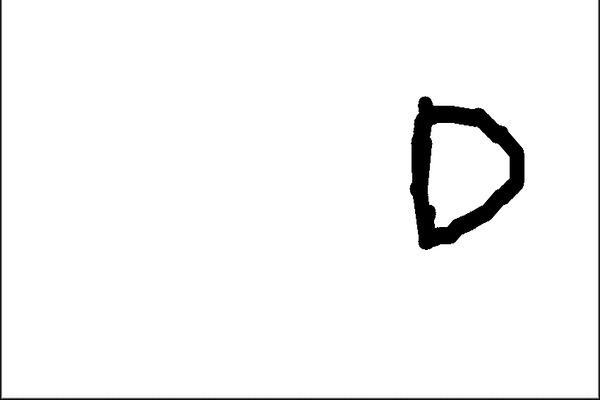D: (405, 92, 529, 256)
